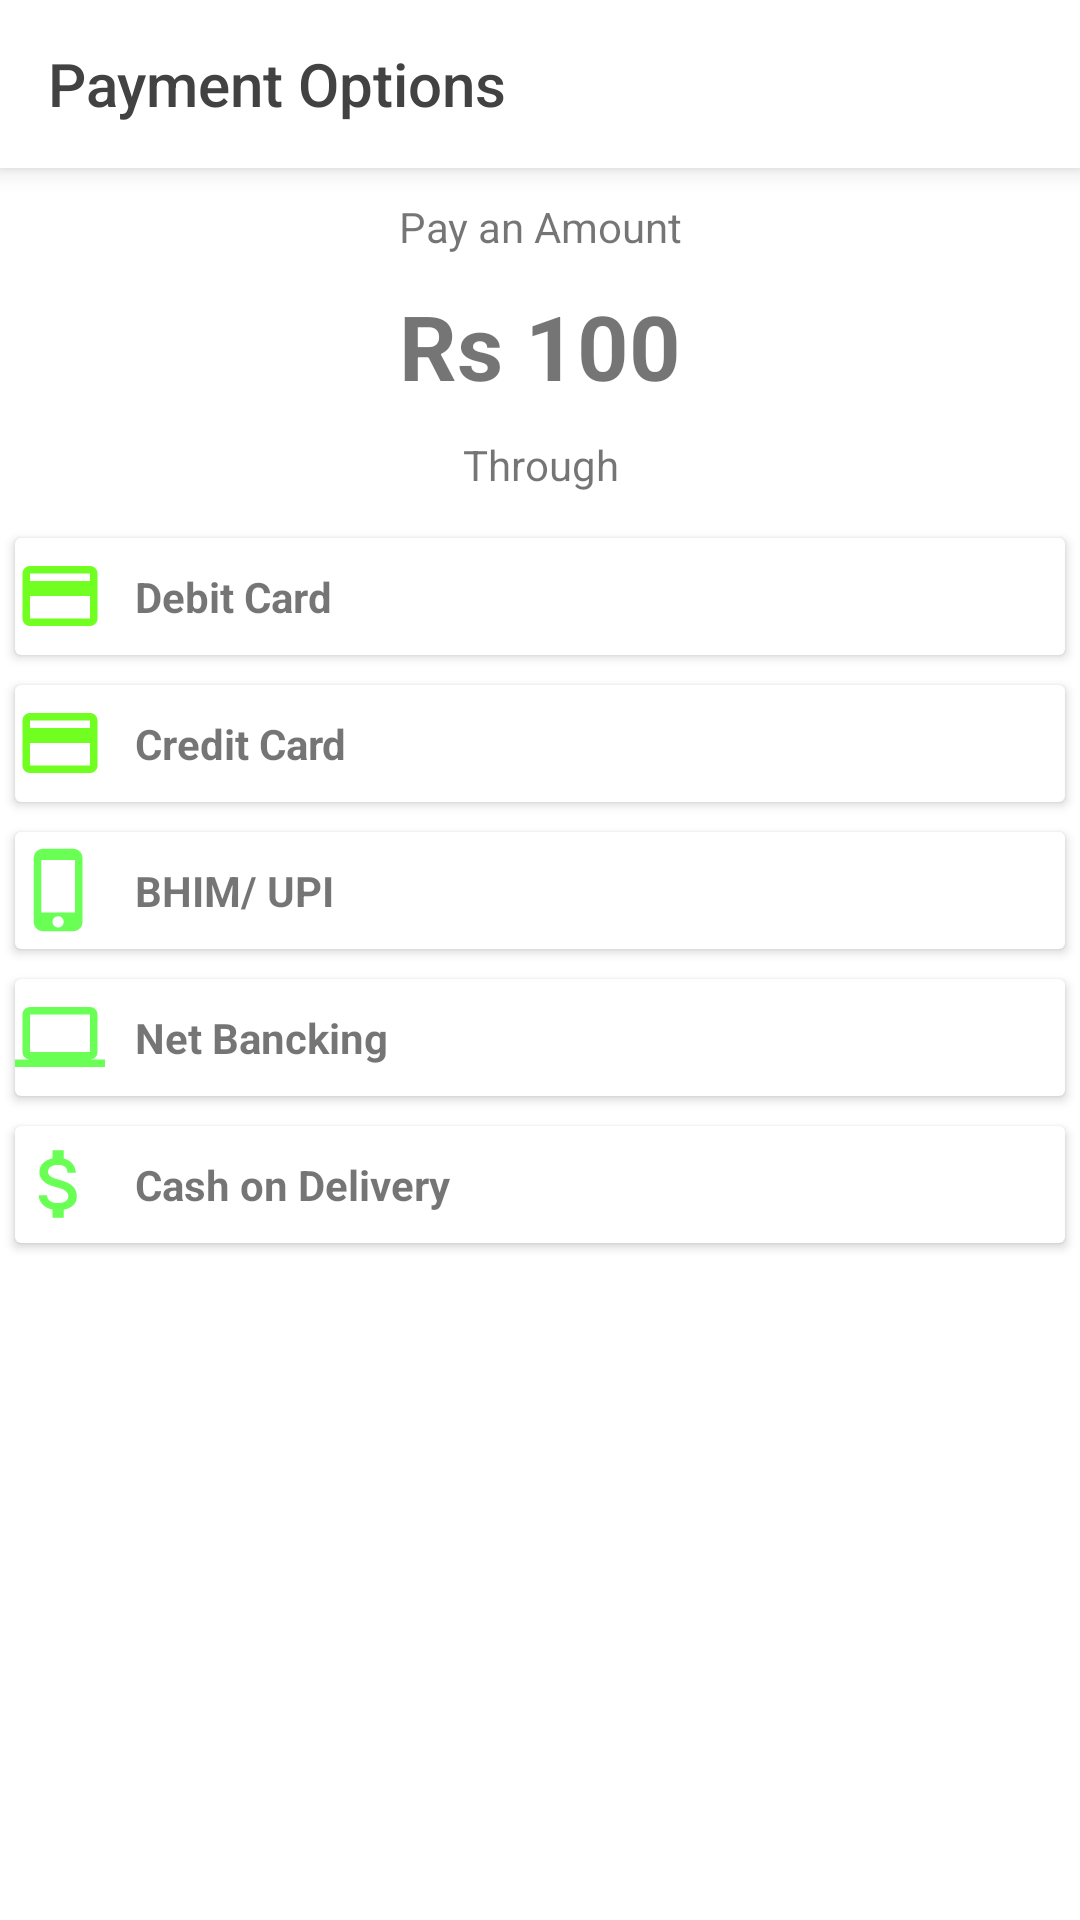

Icons on this 1080x1920 Android screen, each with the point to tap as (x=x, y=y):
attach money: (x=57, y=1184)
computer: (x=60, y=1037)
phone iphone: (x=58, y=890)
